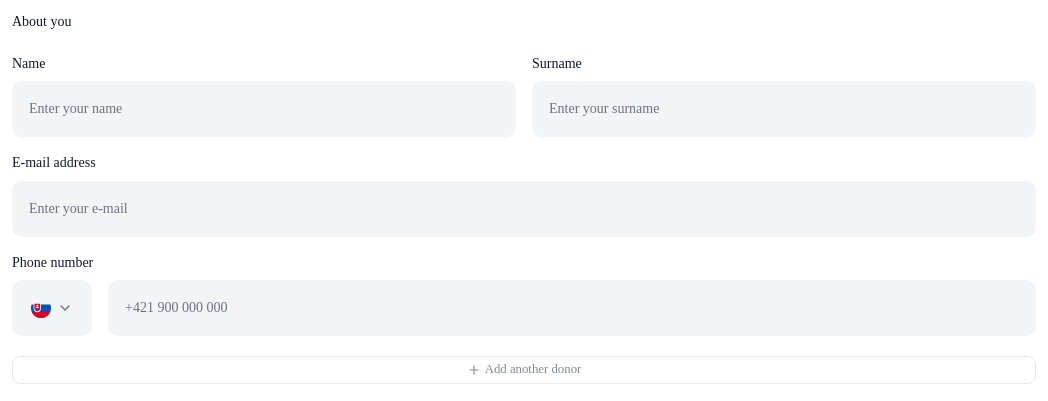
it: PersonalDetailsStep › disables the add donor button until the current row is filled in correctly
The width and height of the screenshot is (1048, 401).
Expected: the button "Add another donor" is disabled, [12, 356, 1036, 384]
Type "Peter" into the field labelled "Name" at (264, 109), box [12, 81, 516, 137]
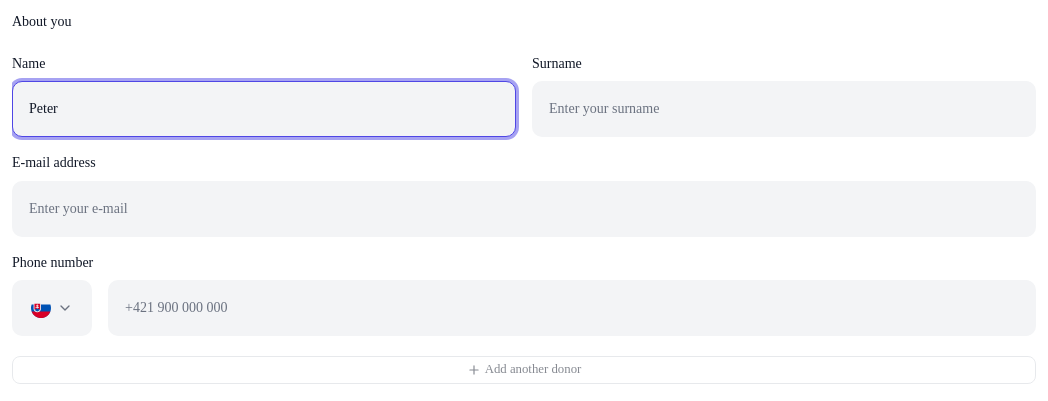
Expected: the button "Add another donor" is disabled, [12, 356, 1036, 384]
Type "Novak" into the field labelled "Surname" at (784, 109), box [532, 81, 1036, 137]
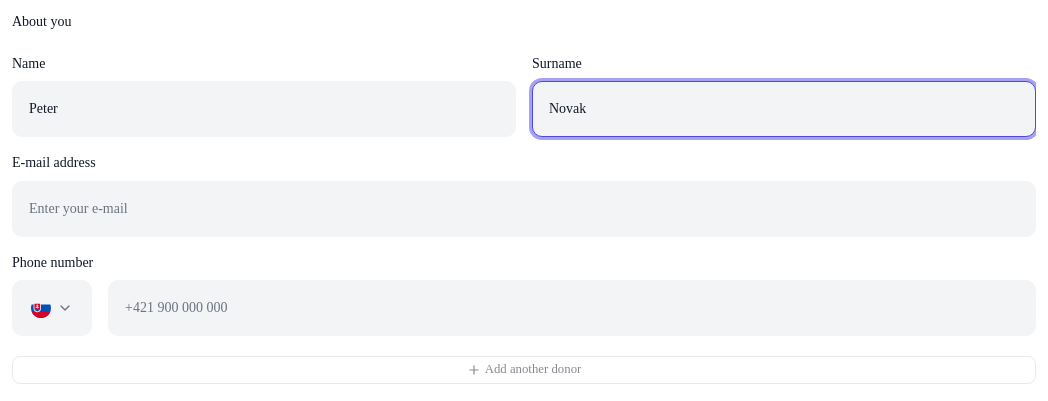
Type "novak@example.com" into the field labelled "E-mail address" at (524, 208), box [12, 180, 1036, 236]
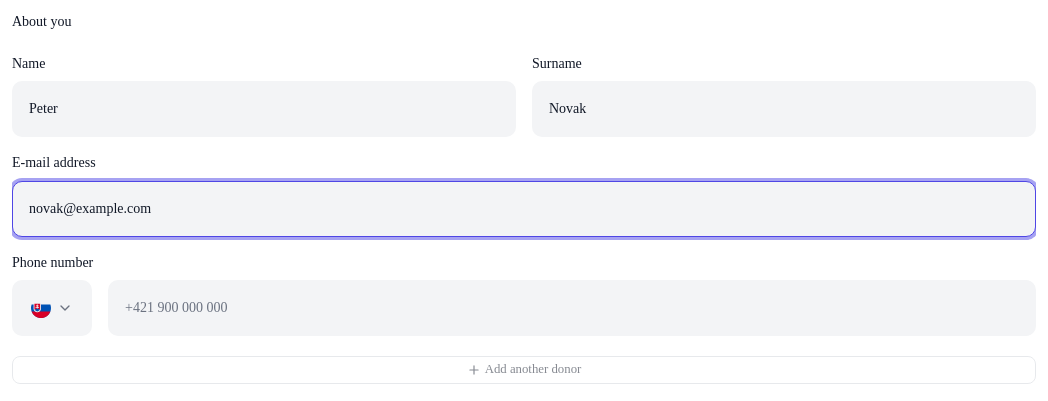
Type "900 000 000" into the field labelled "Phone number" at (572, 308), box [108, 280, 1036, 336]
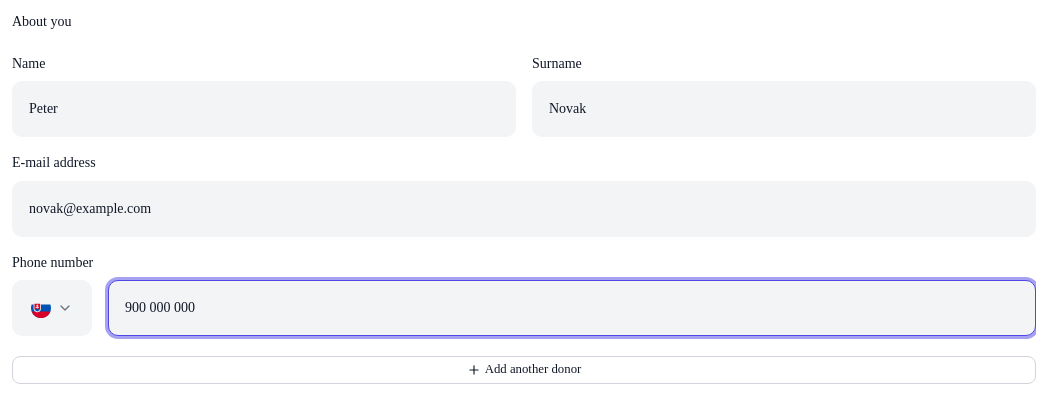
Expected: the button "Add another donor" is enabled, [12, 356, 1036, 384]
